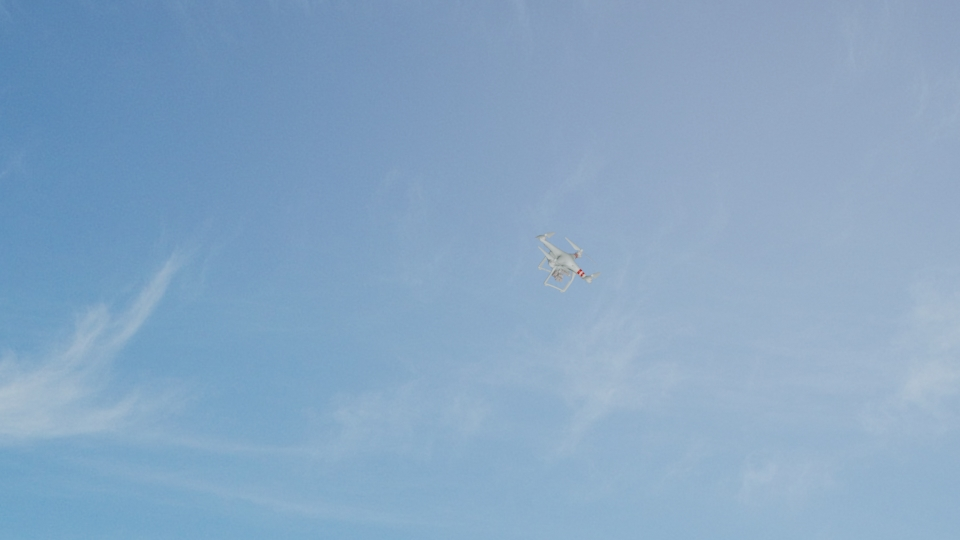drone: (536, 228, 598, 292)
